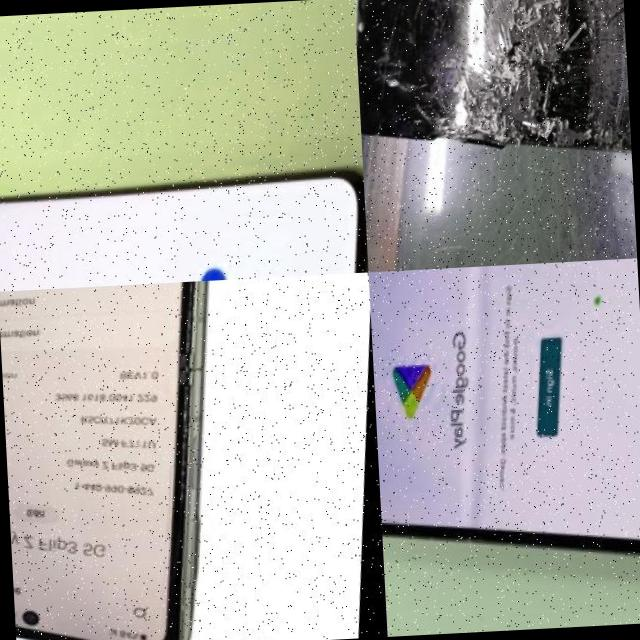dead pixel: (574, 274, 627, 330)
screen crack: (354, 0, 632, 178)
